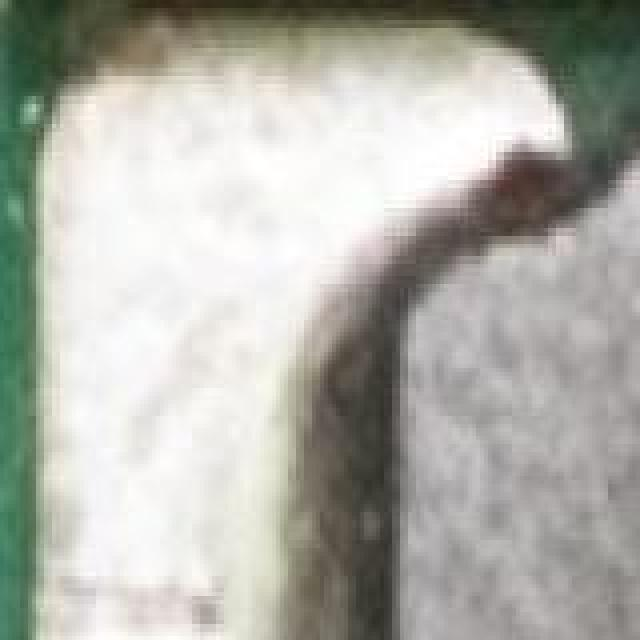inductor: (240, 108, 640, 640)
